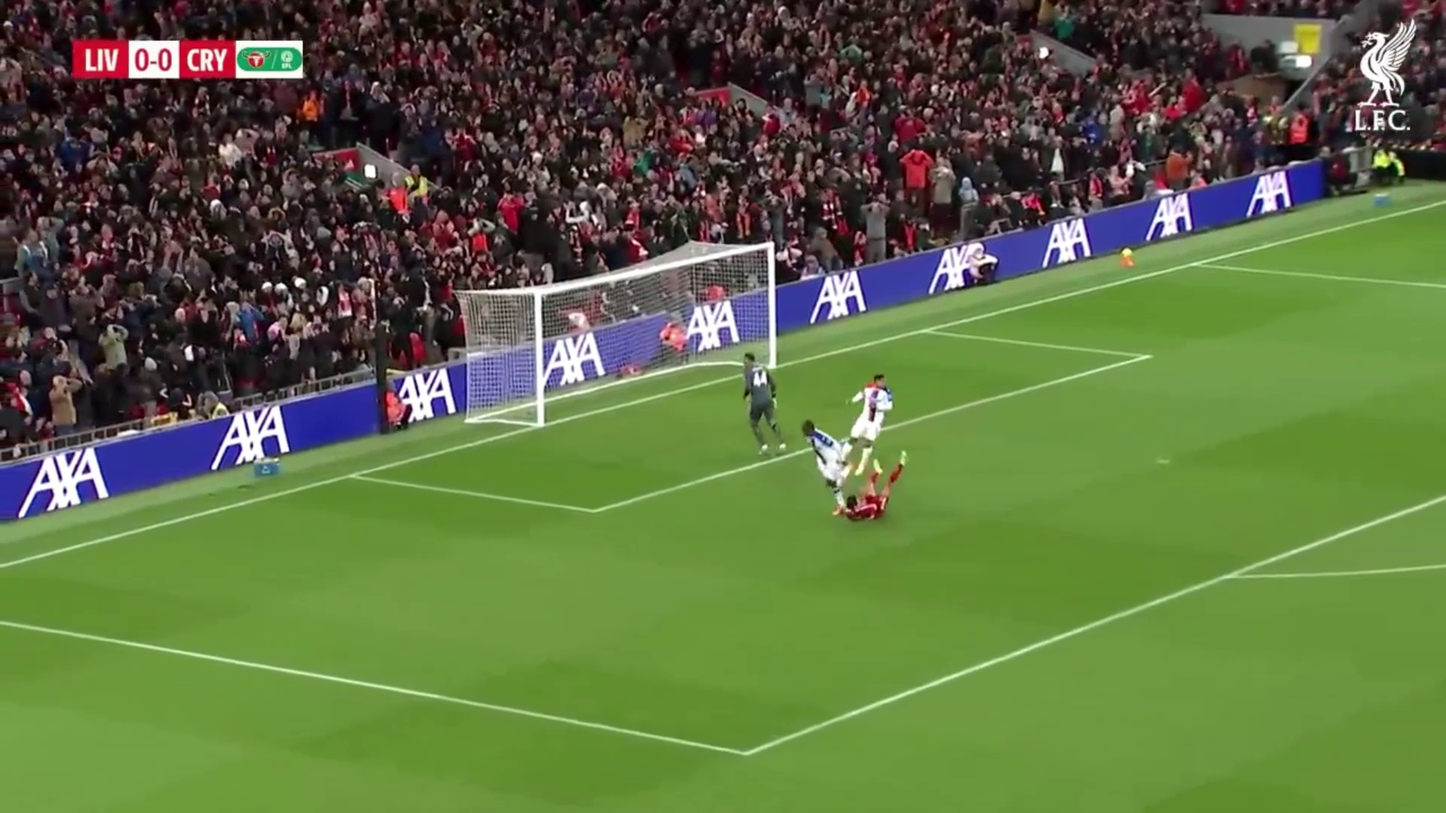player: (839, 371, 894, 493), (544, 309, 605, 392), (743, 357, 786, 455)
